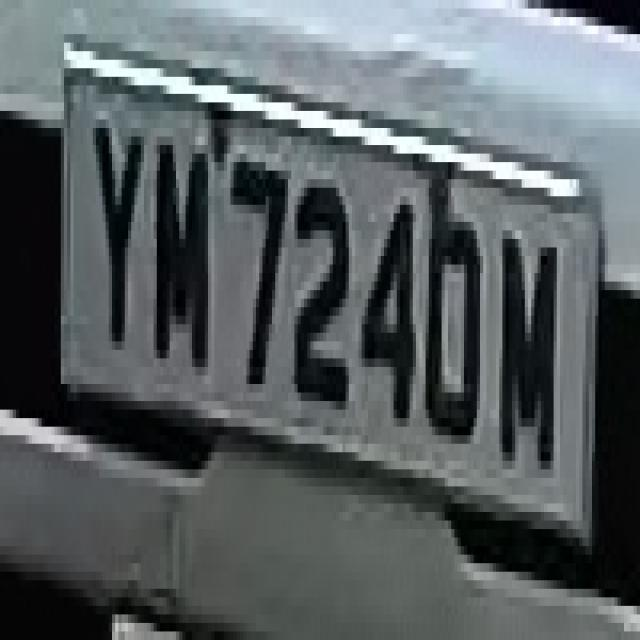0: (422, 196, 490, 478)
2: (288, 162, 355, 418)
4: (355, 171, 426, 469)
7: (221, 111, 294, 410)
M: (496, 222, 563, 495), (144, 120, 211, 376)
Y: (80, 77, 144, 375)
